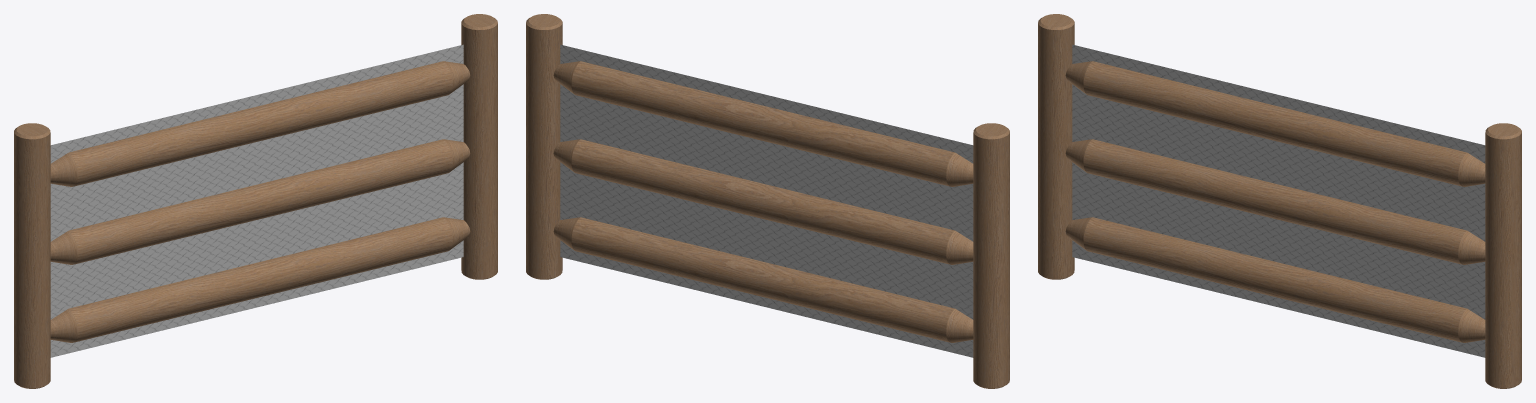
Rendered from fence_asset.glb.
The picture shows the model from 3 angles, left to right: view 1: azimuth 30°, elevation 25°; view 2: azimuth 150°, elevation 25°; view 3: azimuth 330°, elevation 25°; orthographic projection.
Visible parts, largest first — view 1: pCylinder7; view 2: pCylinder7; view 3: pCylinder7.
Part boxes in pixels (x1,y1,x2,y2): pCylinder7: (14,14,497,388); pCylinder7: (526,14,1009,388); pCylinder7: (1038,14,1521,388).
Size of the model in its own units: 6.43 by 3.24 by 0.426.
Materials: 3 (3 with a texture image).
